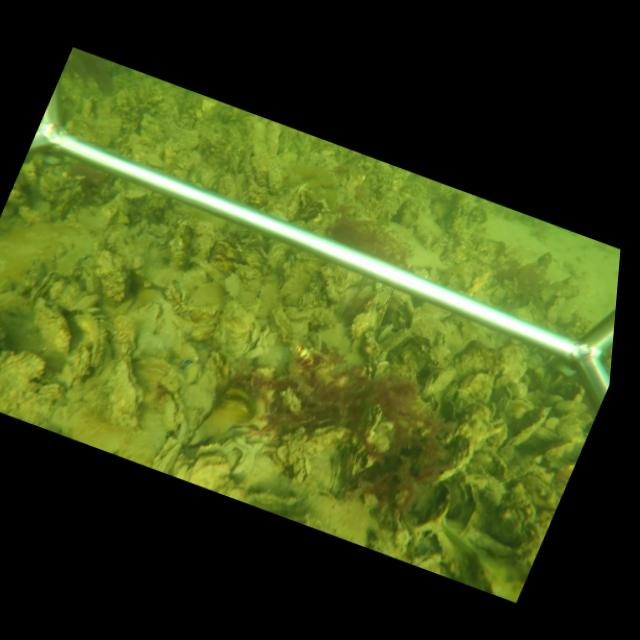Oyster-Closed: (102, 353, 142, 430), (213, 300, 257, 359), (501, 405, 550, 451), (358, 403, 383, 438), (285, 182, 307, 220)
Oyster-Indeterminate: (452, 334, 527, 390), (412, 433, 472, 483), (178, 368, 218, 442), (30, 300, 72, 352), (541, 440, 570, 456)
